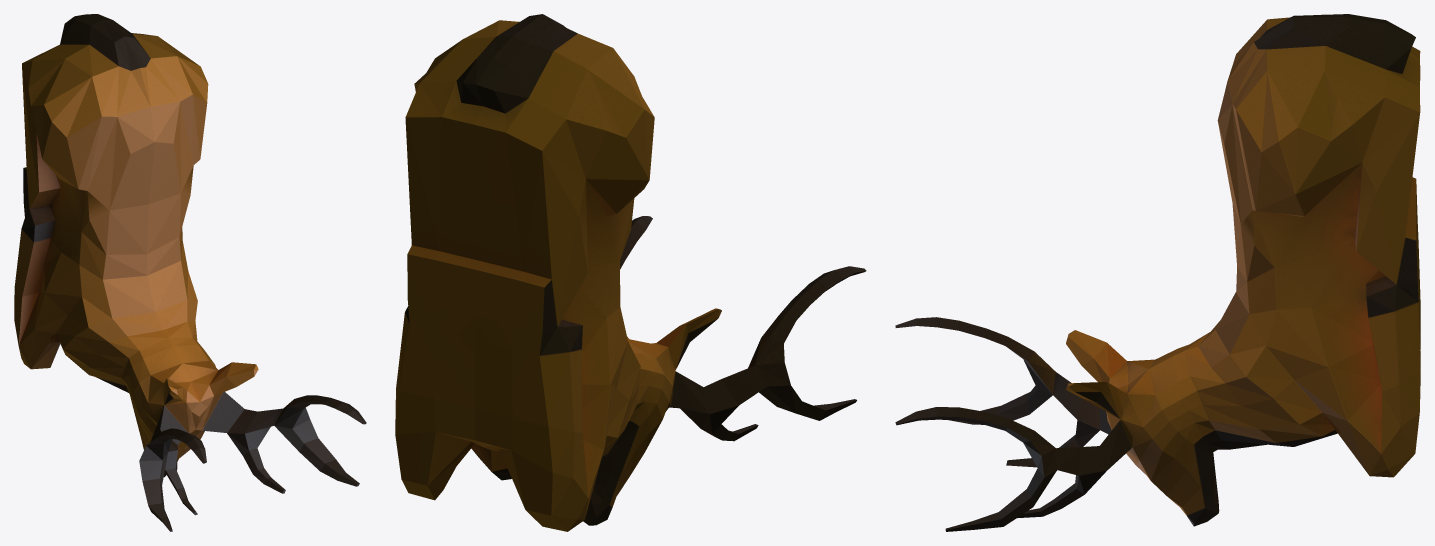
The model's file is deer.obj.
3 views of the same model, side by side, from view 1: azimuth 30°, elevation 25°; view 2: azimuth 150°, elevation 25°; view 3: azimuth 270°, elevation 25° (orthographic). The views are drawn at different scales.
Parts seen in each view (by area): view 1: Line022; view 2: Line022; view 3: Line022.
Boxes of the visible parts, box(x1,y1,x2,y2) form: Line022: box(14, 14, 366, 531); Line022: box(395, 14, 866, 531); Line022: box(895, 14, 1420, 531).
Bounding box in the file's own units: 0.6552 × 1.35 × 1.26.
1 material, 1 textured.
